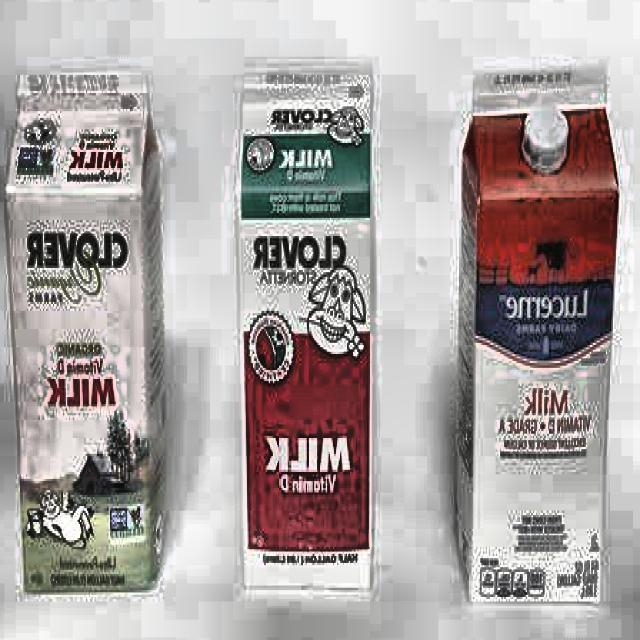cardboard: (454, 68, 620, 604), (4, 68, 169, 592), (235, 61, 378, 590)
